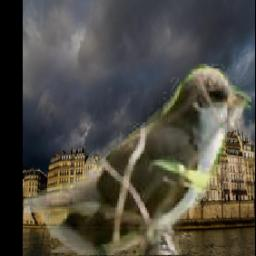Cuckoo: (25, 65, 252, 256)
